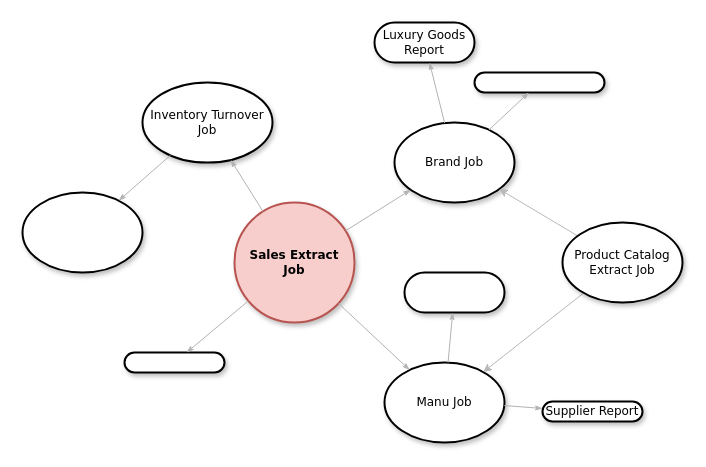
Image size: 706x467. Some labels were removed from this diagram. The centre of each missing label's shape, as x and y in pixels:
"Advertising Report" belongs at [455,293].
"Brand Rollup Job" belongs at [540,83].
"Demand Forcast Job" belongs at [83,233].
"Sales Report" belongs at [175,363].
